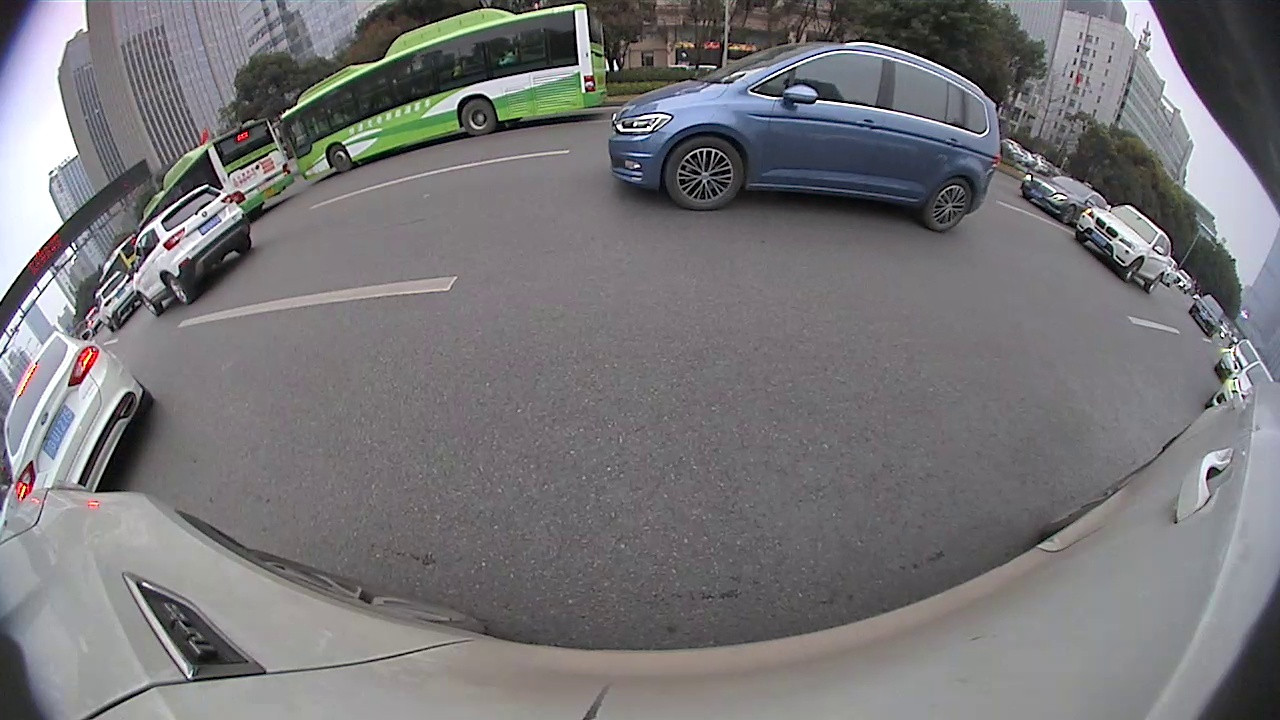bus: (272, 2, 602, 184)
car: (607, 38, 1007, 235), (4, 326, 156, 498), (129, 183, 254, 319), (1078, 202, 1175, 294), (1019, 168, 1107, 229)
front: (663, 138, 748, 208), (331, 141, 356, 173)
rear: (920, 178, 975, 232), (463, 95, 499, 135), (164, 271, 191, 307)
